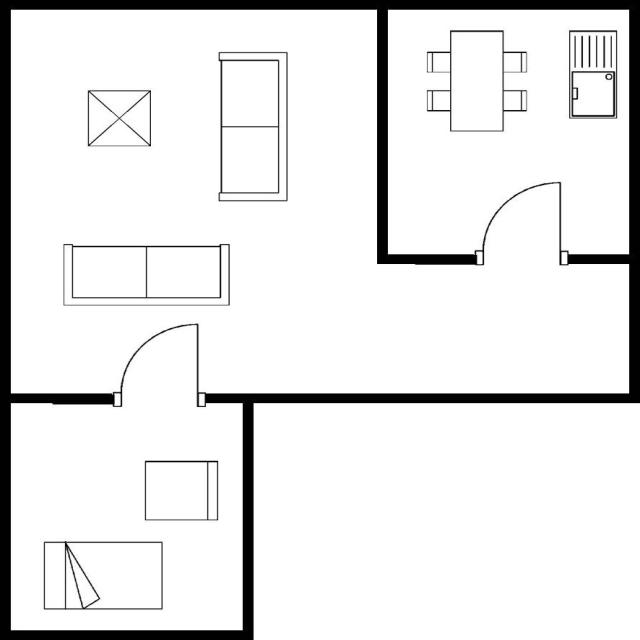bed: (38, 537, 166, 612)
coffee_table: (82, 86, 156, 150)
dining_table: (420, 26, 531, 135)
large_sofa: (58, 240, 233, 310), (212, 48, 290, 204)
sink: (562, 25, 620, 122)
small_sofa: (139, 457, 224, 525)
